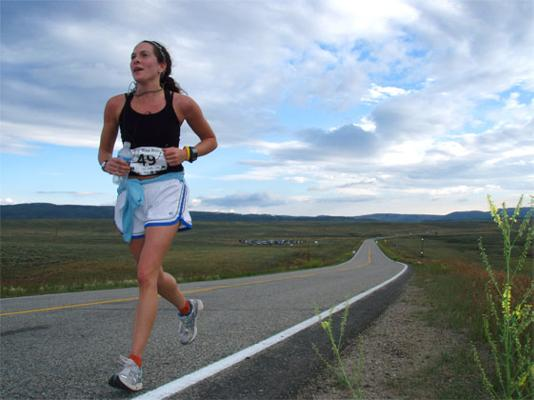person: (99, 42, 219, 391)
